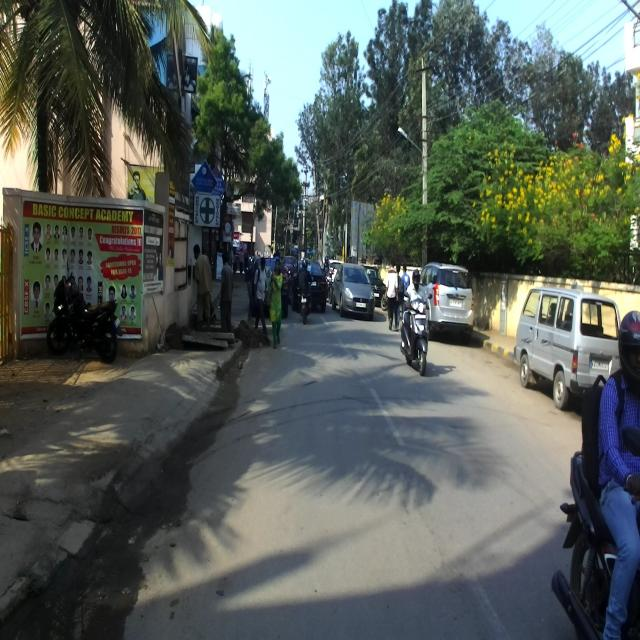Car_Fiat: (332, 260, 374, 322)
Car_Mahindra: (414, 261, 474, 343)
Car_Maruti-Suzuki: (515, 286, 623, 409)
motorcycle_bajaj: (46, 256, 124, 364)
scooter: (398, 290, 434, 376)
